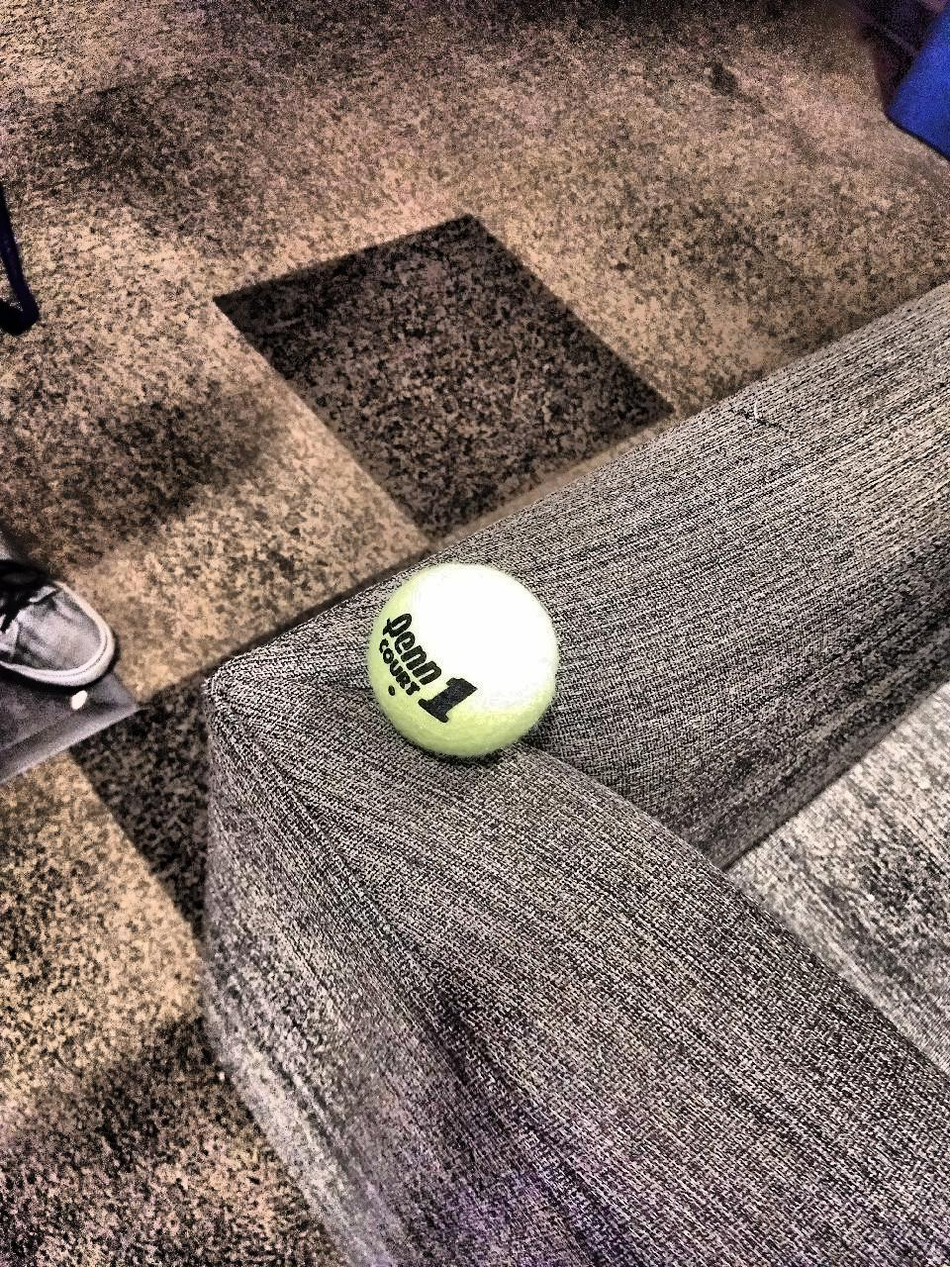Tennis_Ball: (368, 554, 563, 767)
